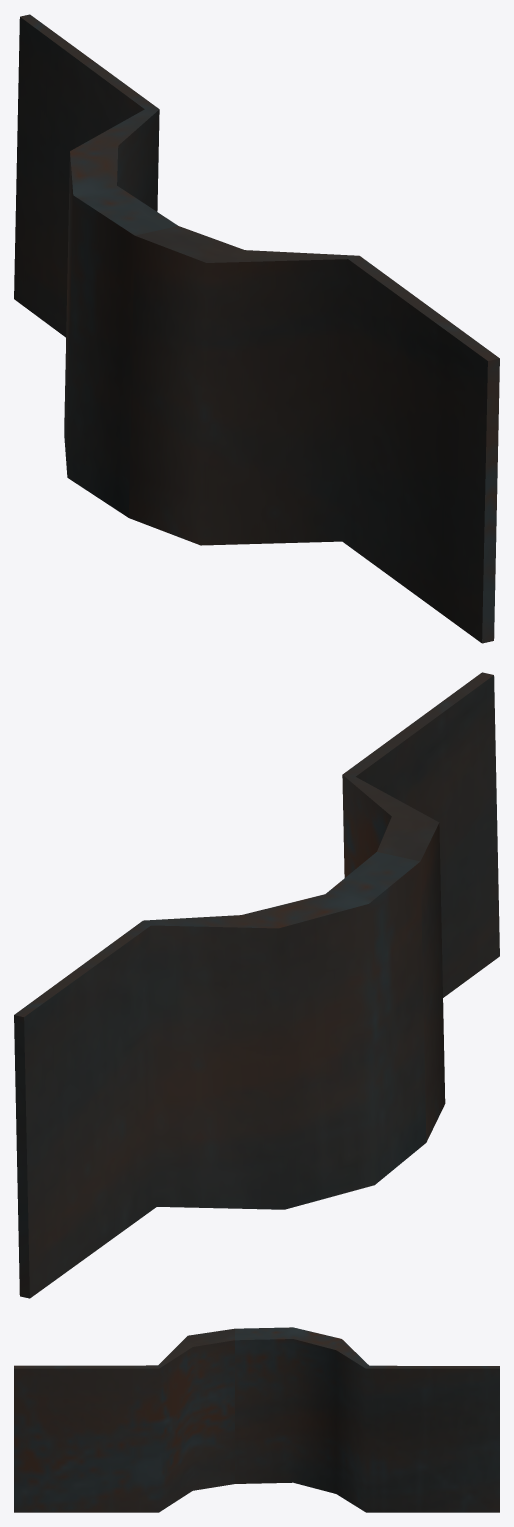
File: wallCHain.fbx
3 renders of one model, top to bottom at view 1: azimuth 30°, elevation 25°; view 2: azimuth 150°, elevation 25°; view 3: azimuth 270°, elevation 25°, orthographic. The views are drawn at different scales.
Parts seen in each view (by area): view 1: chainThing; view 2: chainThing; view 3: chainThing.
Boxes of the visible parts, x1,y1,x2,y2 form: chainThing: (14, 14, 499, 643); chainThing: (14, 672, 499, 1298); chainThing: (14, 1327, 499, 1512).
Bounding box in the file's own units: 0.1228 × 0.2056 × 0.6153.
